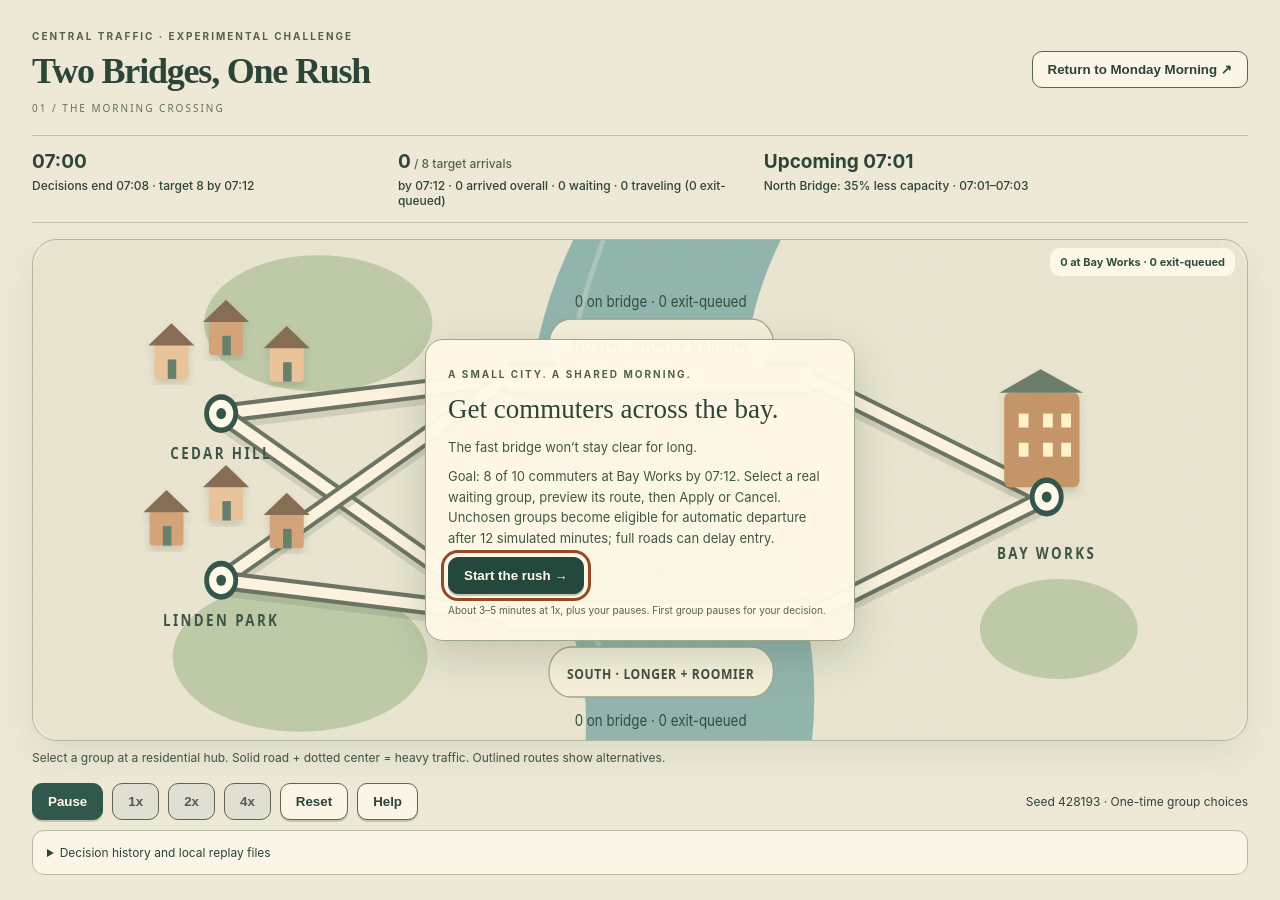
Test: arrival goal, urgency and observed feedback › labels expired undecided requests queued when actual storage blocks entry
Click the button "Start the rush →" at (516, 576), box [448,557,584,594]
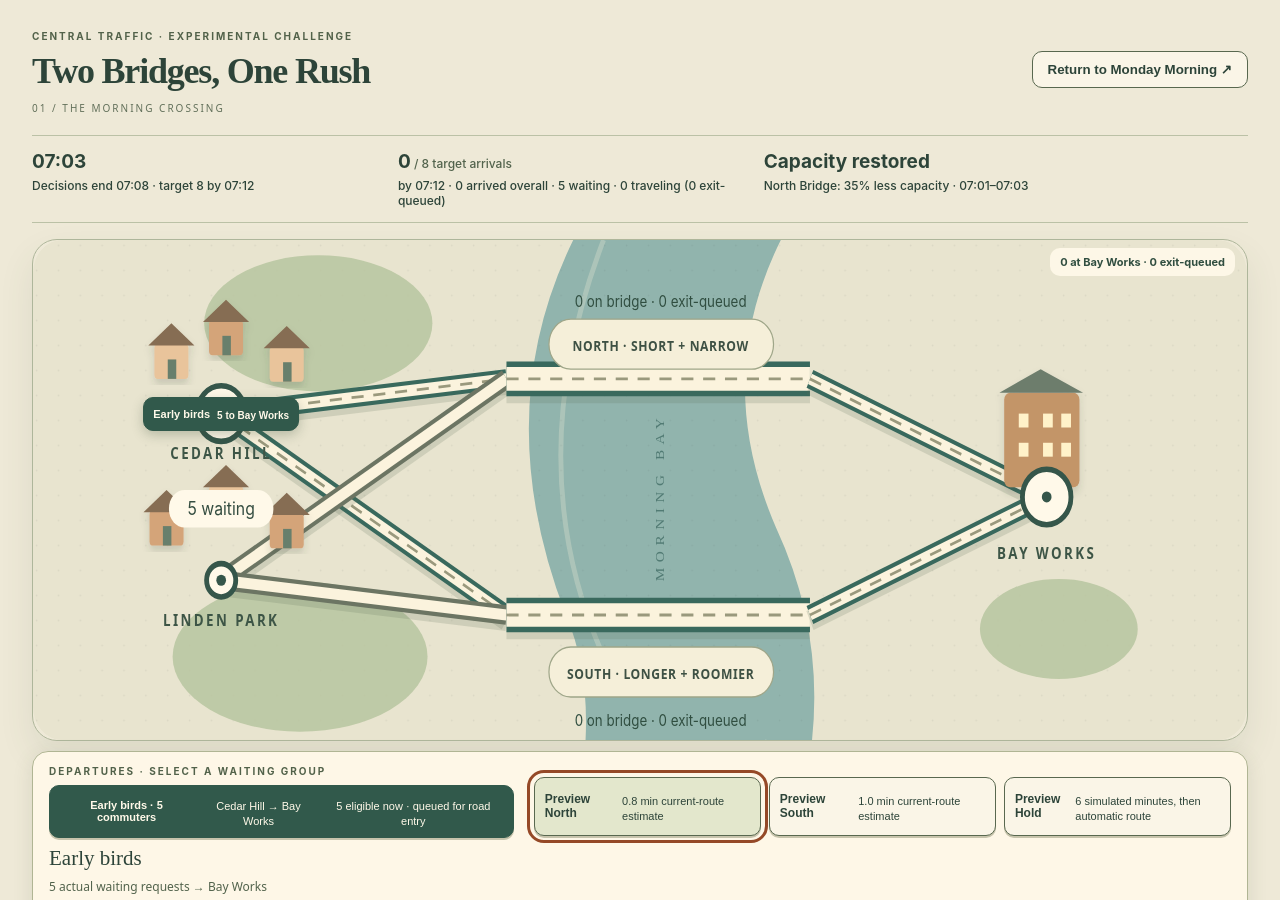
Now the element with class "bayGroupChoices" shows "5 eligible now · queued for road entry", box [49,785,514,838]
